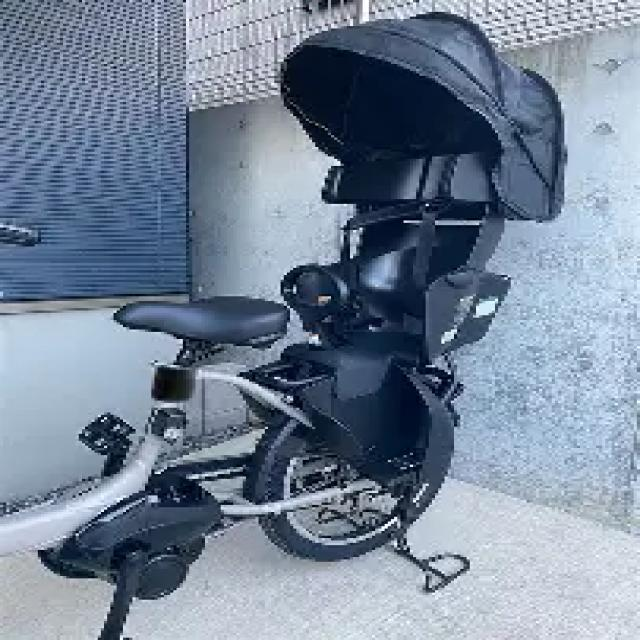childseat: (252, 14, 590, 488)
